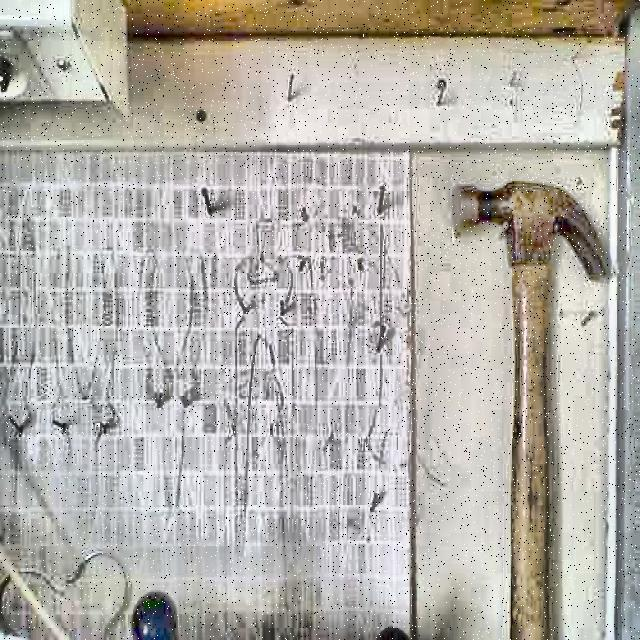hammer: (450, 177, 606, 639)
